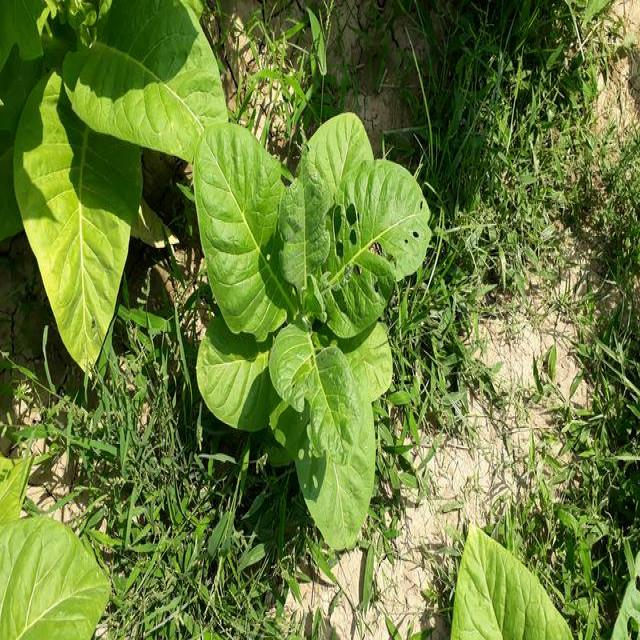crop: (192, 102, 429, 548)
